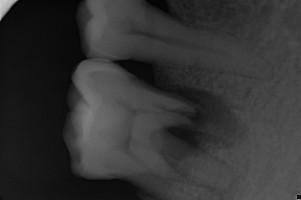Dental Caries: (156, 84, 249, 151)
